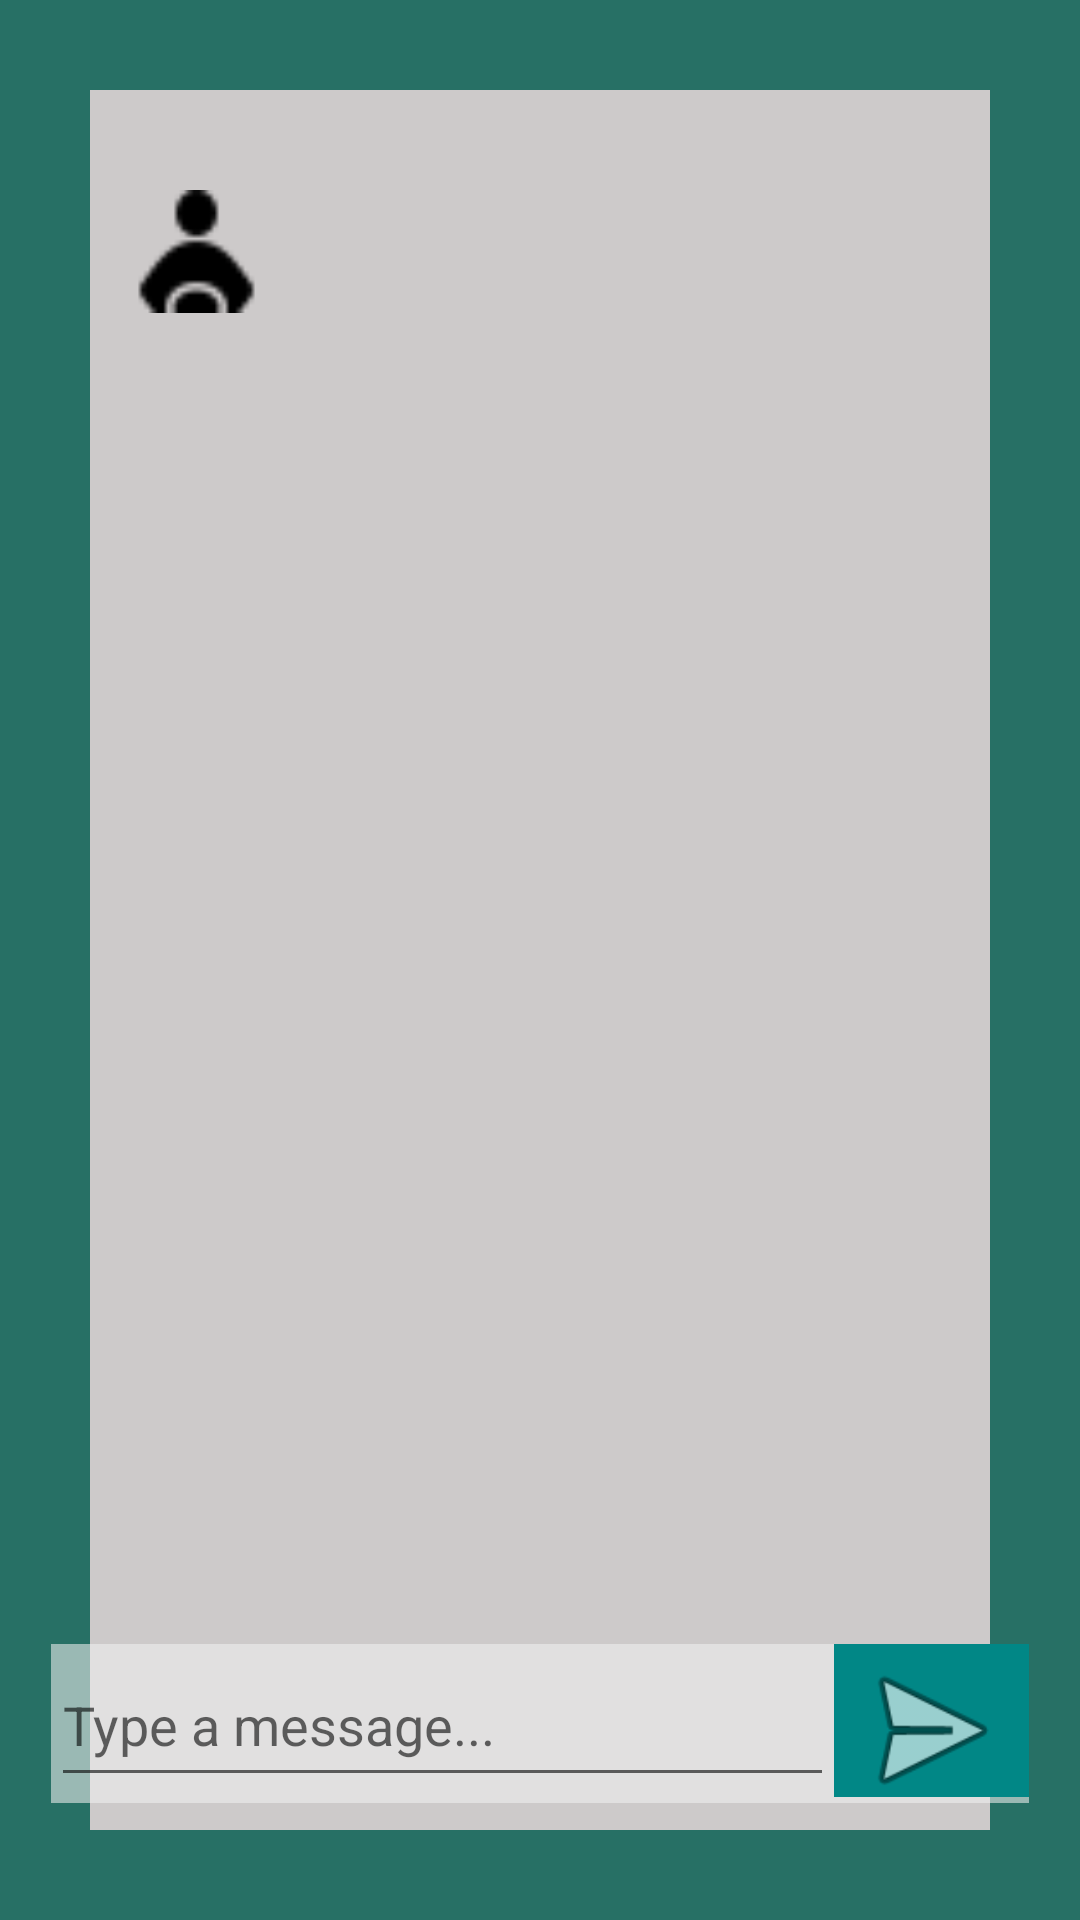

Icon bounding boxes for this 1080w x 1920h phone screenshot, format bbox=(x1, y1, x2, y2):
driver: bbox=(138, 190, 255, 313)
send: bbox=(834, 1644, 1029, 1803)
